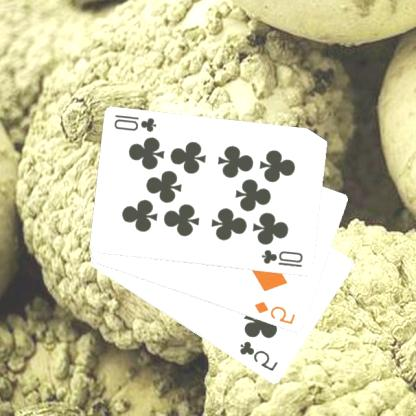10C: (113, 112, 160, 134), (260, 247, 306, 269)
5C: (238, 338, 282, 373)
5D: (253, 298, 299, 326)
